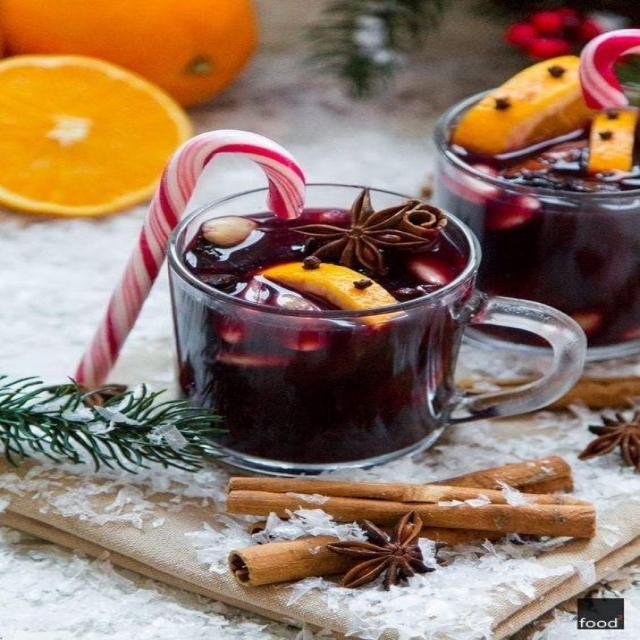glass-mug: (154, 171, 594, 474)
